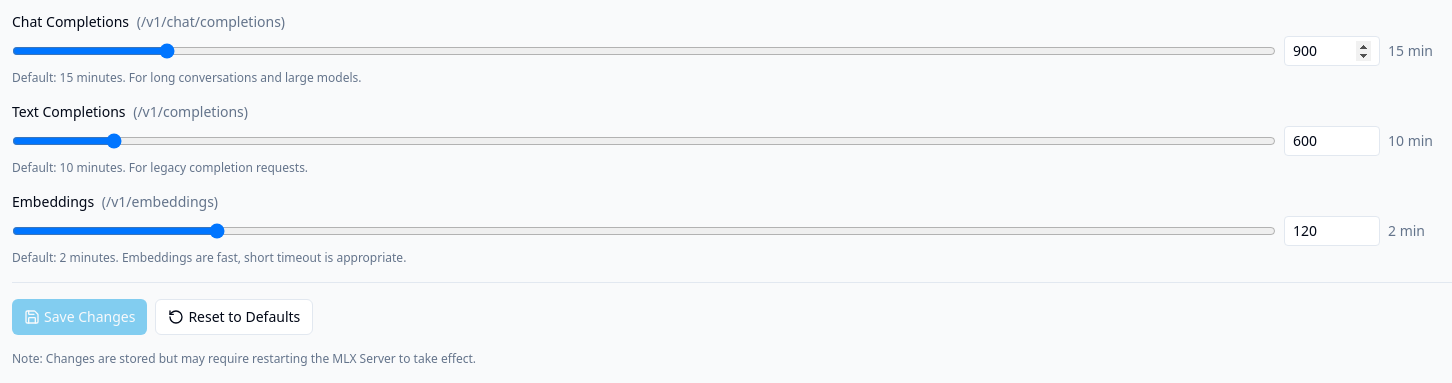
Scenario: TimeoutSettings › hasChanges detection › hides unsaved changes when value reverted to original
Replace the text in the number field with id "chat-timeout" with "1200": (1332, 51) [1284, 36, 1380, 66]
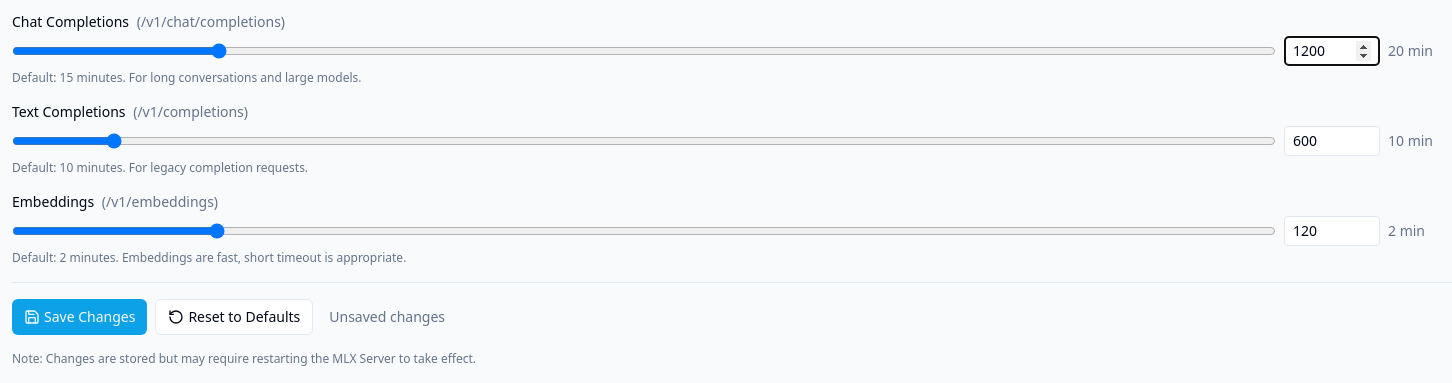
Now the text "Unsaved changes" is shown, box [329, 307, 445, 327]
// Revert to original value
Replace the text in the number field with id "chat-timeout" with "900": (1332, 51) [1284, 36, 1380, 66]
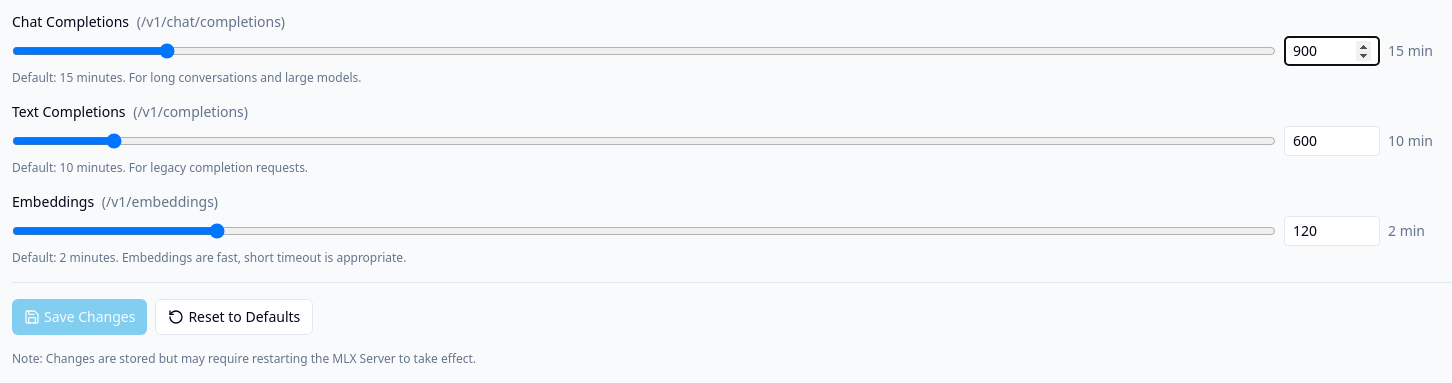
Now the text "Unsaved changes" is gone
